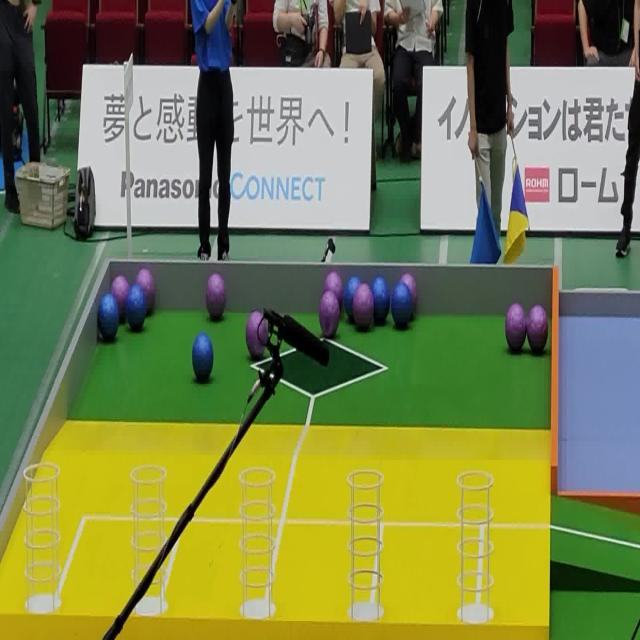blue_ball: (192, 332, 214, 386), (128, 284, 145, 338), (392, 285, 411, 332), (99, 298, 117, 346), (374, 276, 389, 325), (345, 277, 354, 322)
purple_ball: (504, 302, 527, 354), (526, 304, 548, 355), (245, 311, 267, 361), (206, 272, 227, 321), (319, 290, 340, 338), (354, 287, 374, 331), (324, 272, 344, 310), (144, 269, 155, 316), (116, 277, 128, 319), (409, 272, 418, 314)
